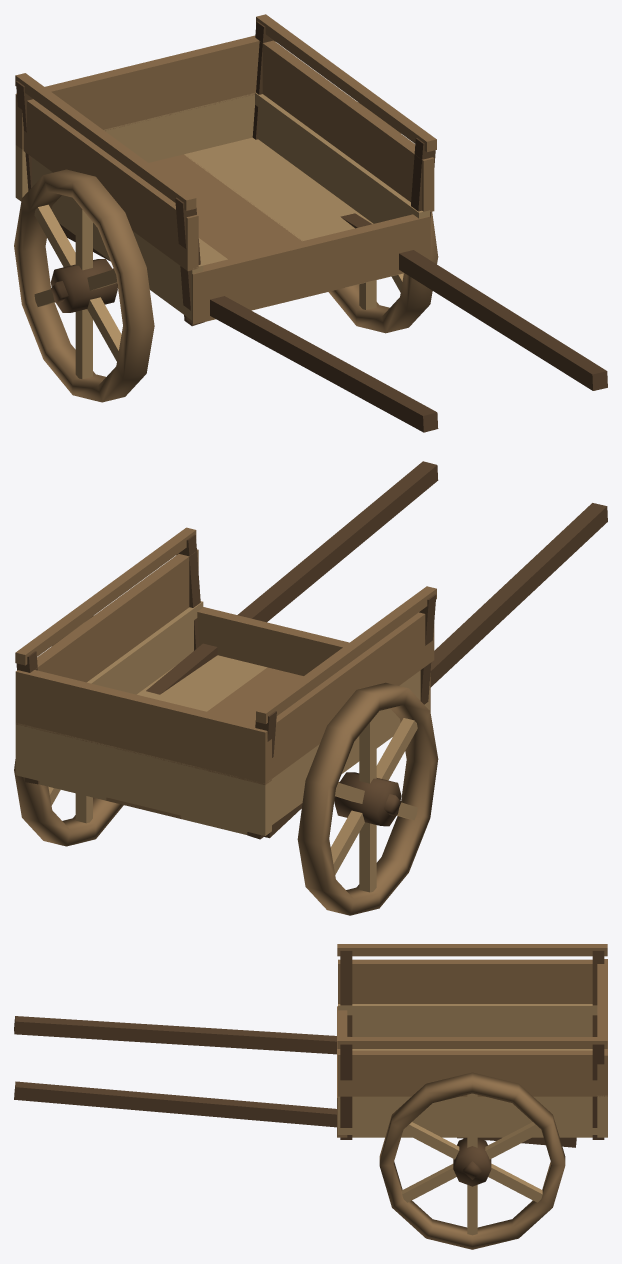
The model's file is horse_cart_lod1.glb.
3 views of the same model, one above another, from view 1: azimuth 30°, elevation 25°; view 2: azimuth 150°, elevation 25°; view 3: azimuth 270°, elevation 25° (orthographic). The views are drawn at different scales.
Visible parts, largest first — view 1: CartBody.002, WheelLeft.002, WheelRight.002; view 2: CartBody.002, WheelLeft.002, WheelRight.002; view 3: CartBody.002, WheelRight.002.
Part boxes in pixels (left/top/right/bottom): CartBody.002: left=15, top=14, right=607, bottom=432; WheelLeft.002: left=14, top=169, right=154, bottom=402; WheelRight.002: left=328, top=102, right=438, bottom=333; CartBody.002: left=15, top=461, right=607, bottom=839; WheelLeft.002: left=297, top=682, right=438, bottom=915; WheelRight.002: left=14, top=615, right=123, bottom=846; CartBody.002: left=14, top=944, right=607, bottom=1179; WheelRight.002: left=379, top=1072, right=565, bottom=1249.
Bounding box in the file's own units: 2.2 × 1.55 × 4.22.
